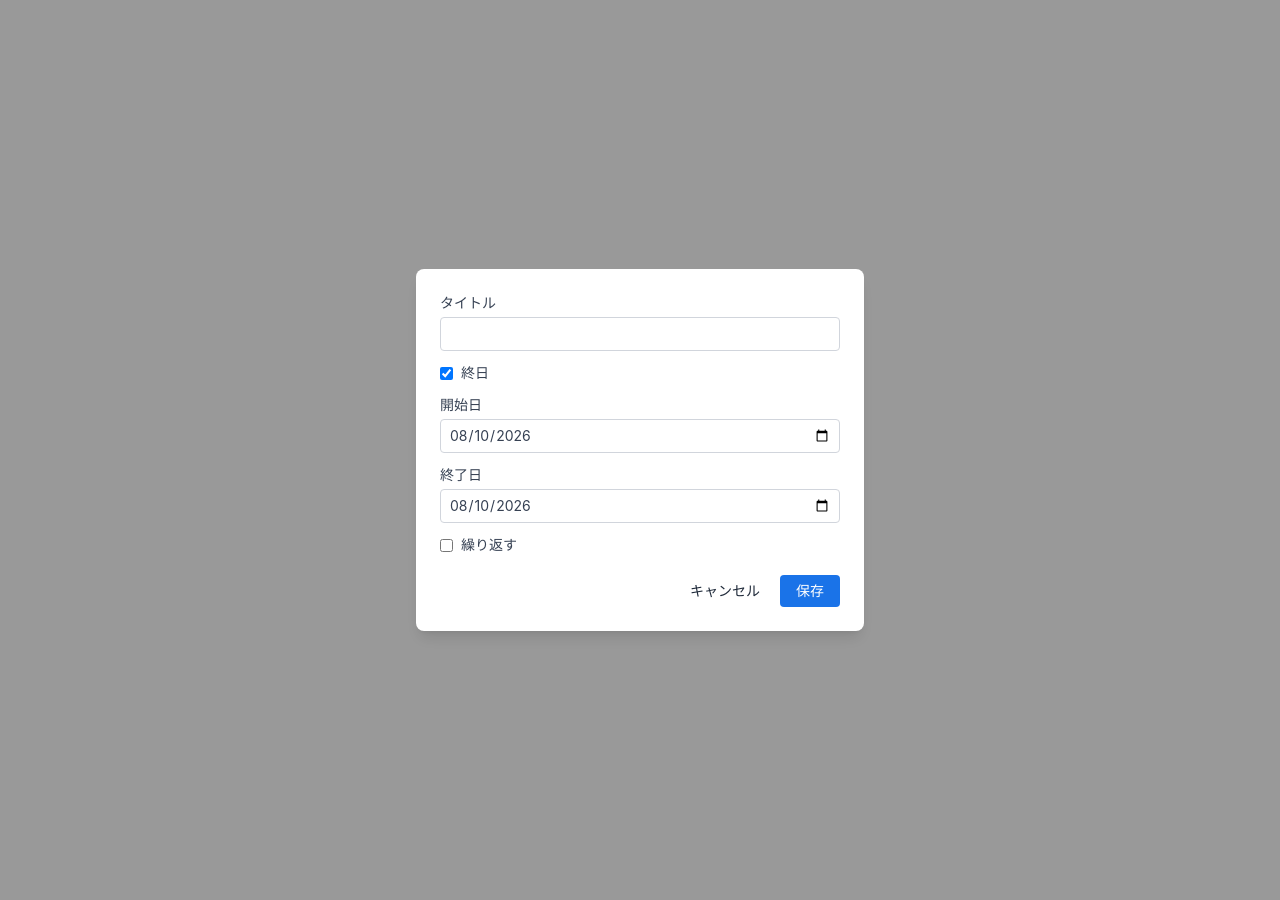
auto-fills the end time as start time + 1 hour when unchecking all-day
What coordinates should you click on to do the following:
click the checkbox labelled "終日"
I would click on:
 (446, 373)
Its box is x1=440 y1=366 x2=453 y2=380.
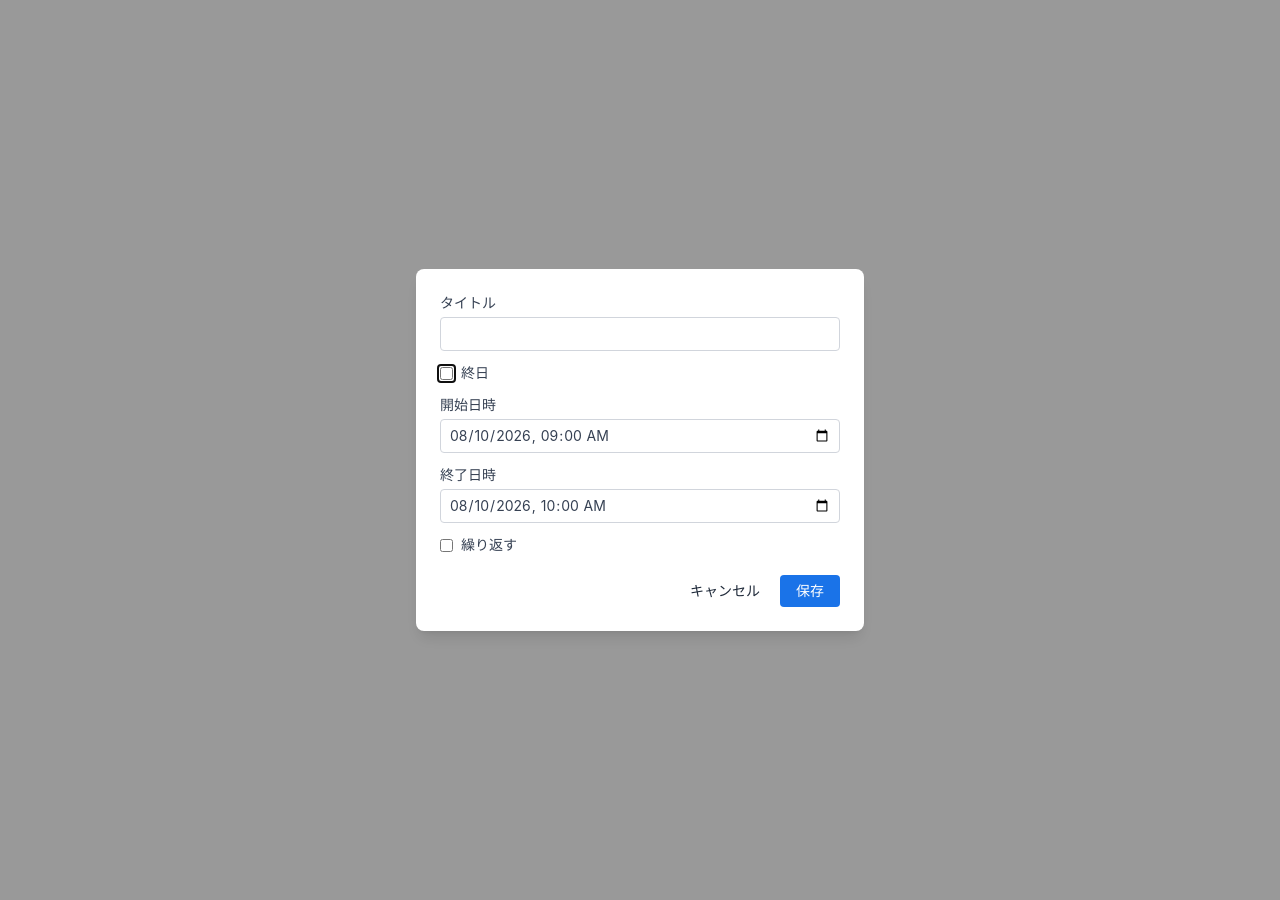
Now the field labelled "開始日時" holds "2026-08-10T09:00", box x1=440 y1=419 x2=840 y2=453
Now the field labelled "終了日時" holds "2026-08-10T10:00", box x1=440 y1=489 x2=840 y2=523
